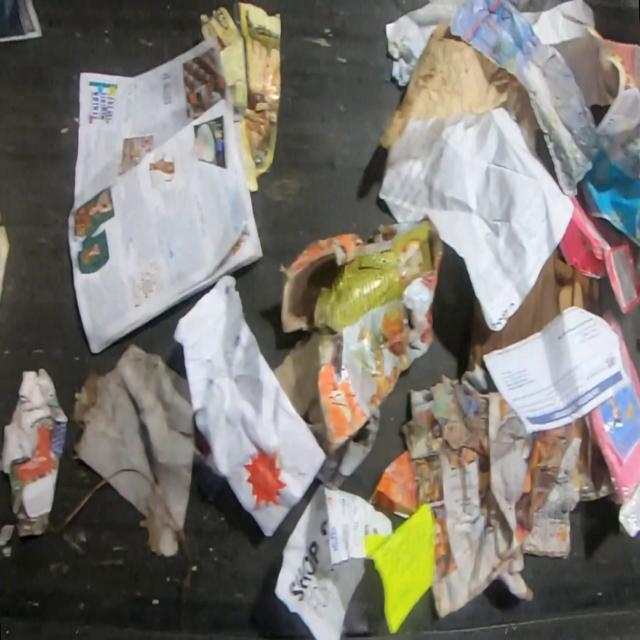cardboard: (272, 218, 444, 455), (469, 250, 600, 361), (559, 195, 639, 315), (572, 415, 604, 490)
soft_plastic: (584, 308, 640, 540)
